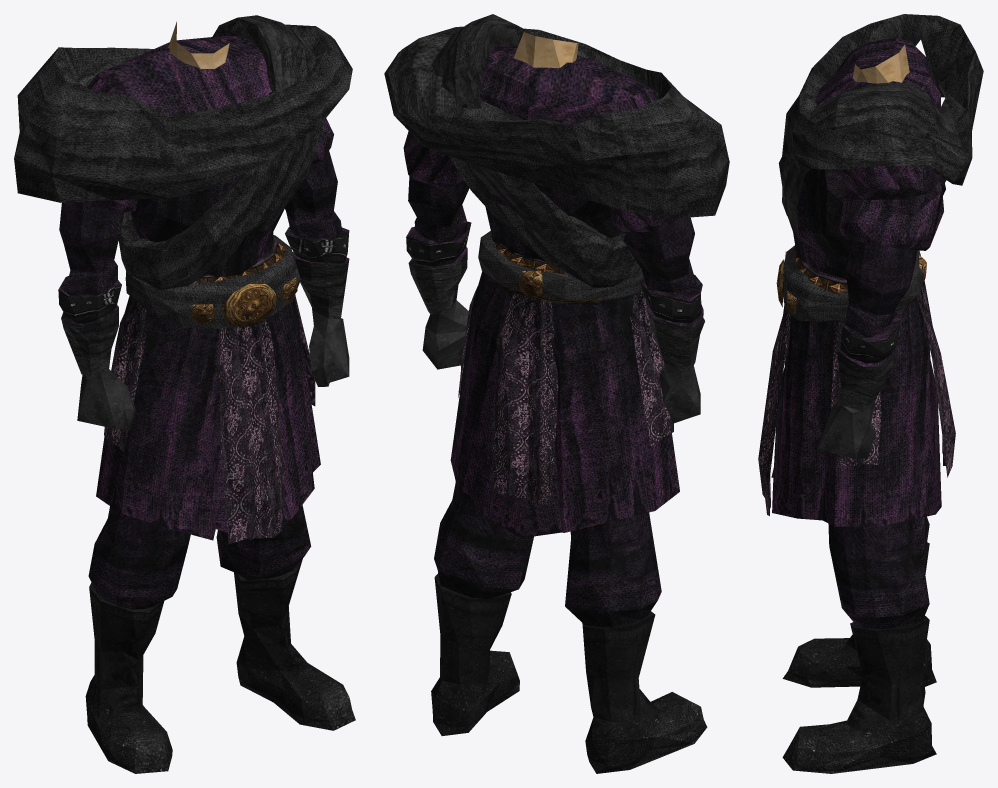
File: ARMOR_ASASYN_VAR_06.glb
The picture shows the model from 3 angles, left to right: view 1: azimuth 30°, elevation 25°; view 2: azimuth 150°, elevation 25°; view 3: azimuth 270°, elevation 25°; orthographic projection. The views are drawn at different scales.
Visible parts, largest first — view 1: ARMOR_ASASYN_VAR_06; view 2: ARMOR_ASASYN_VAR_06; view 3: ARMOR_ASASYN_VAR_06.
Boxes of the visible parts, x1,y1,x2,y2 form: ARMOR_ASASYN_VAR_06: [14, 15, 355, 773]; ARMOR_ASASYN_VAR_06: [384, 14, 729, 773]; ARMOR_ASASYN_VAR_06: [758, 14, 983, 773].
Size of the model in its own units: 0.8073 by 1.68 by 0.5082.
Materials: 2 (2 with a texture image).
